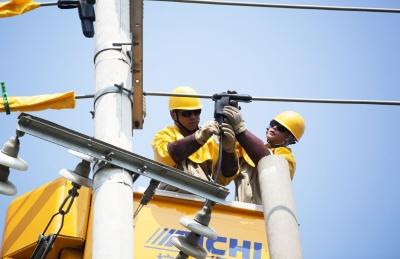gloves: (222, 105, 265, 157), (172, 120, 220, 154), (219, 122, 240, 174)
hard-hat: (273, 111, 305, 141), (169, 86, 202, 111)
person: (151, 86, 240, 194), (221, 104, 305, 204)
